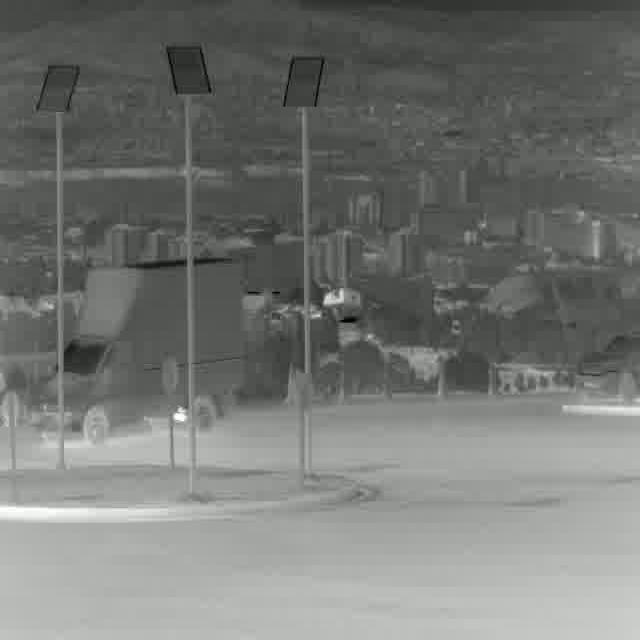Car: (38, 258, 238, 439)
